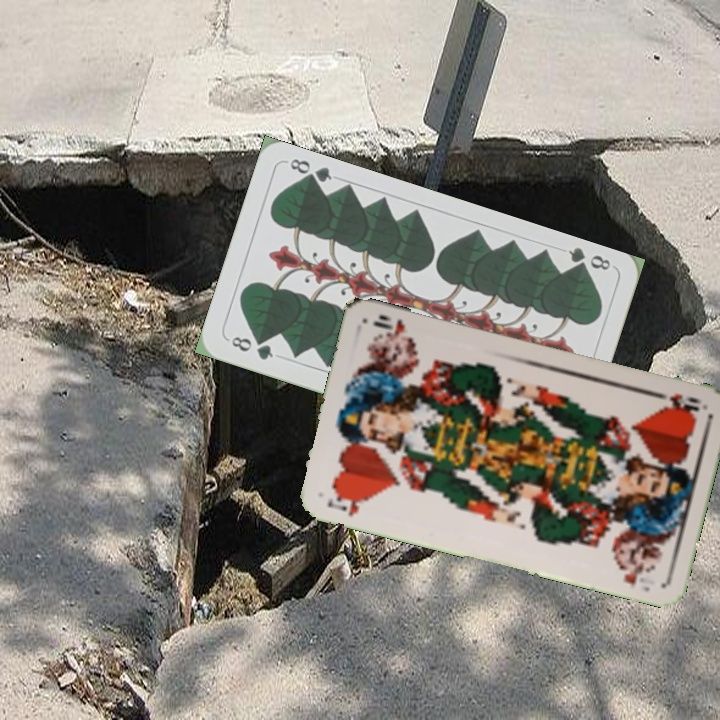G8: (564, 243, 613, 277), (227, 332, 276, 363)
HO: (647, 388, 704, 415), (323, 488, 371, 519)
